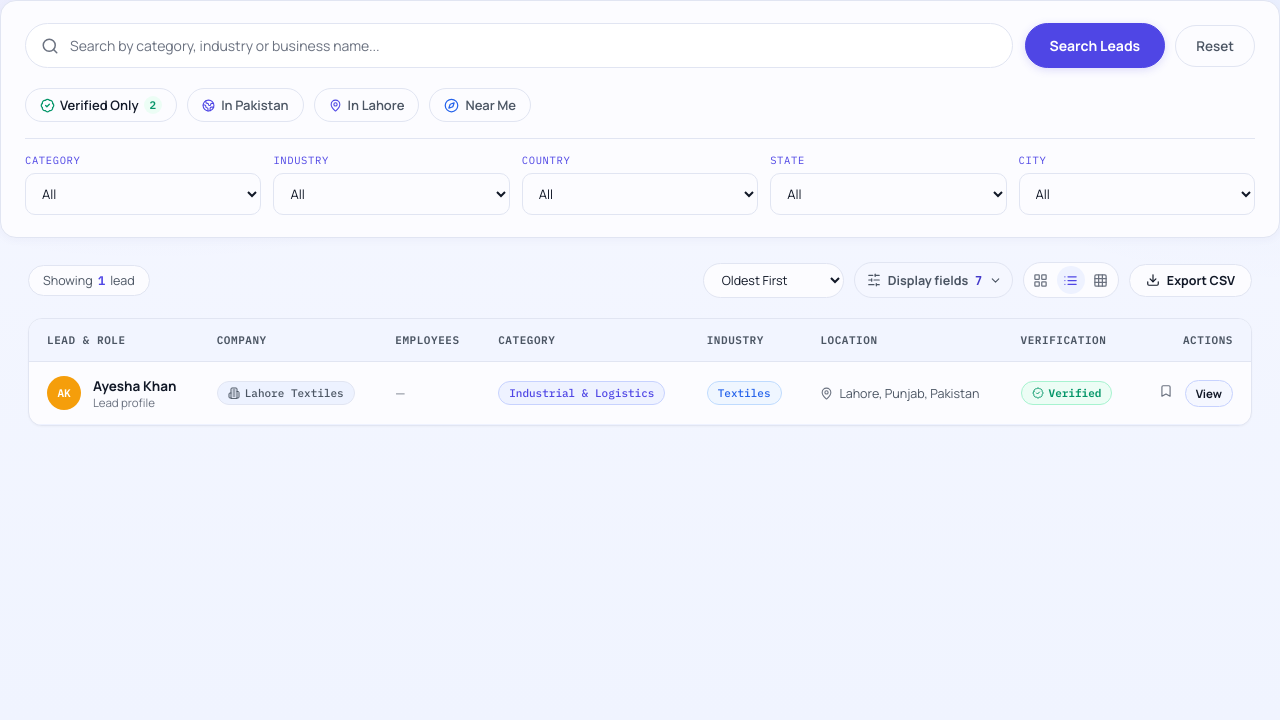
Near Me on the Search Leads page › never swaps demo rows into a failed filtered search (looks like a broken filter)
The width and height of the screenshot is (1280, 720).
Expected: the text "Ayesha Khan" is shown, [93,376,176,394]
Click the button "In Lahore" at (366, 105), box [314,88,419,122]
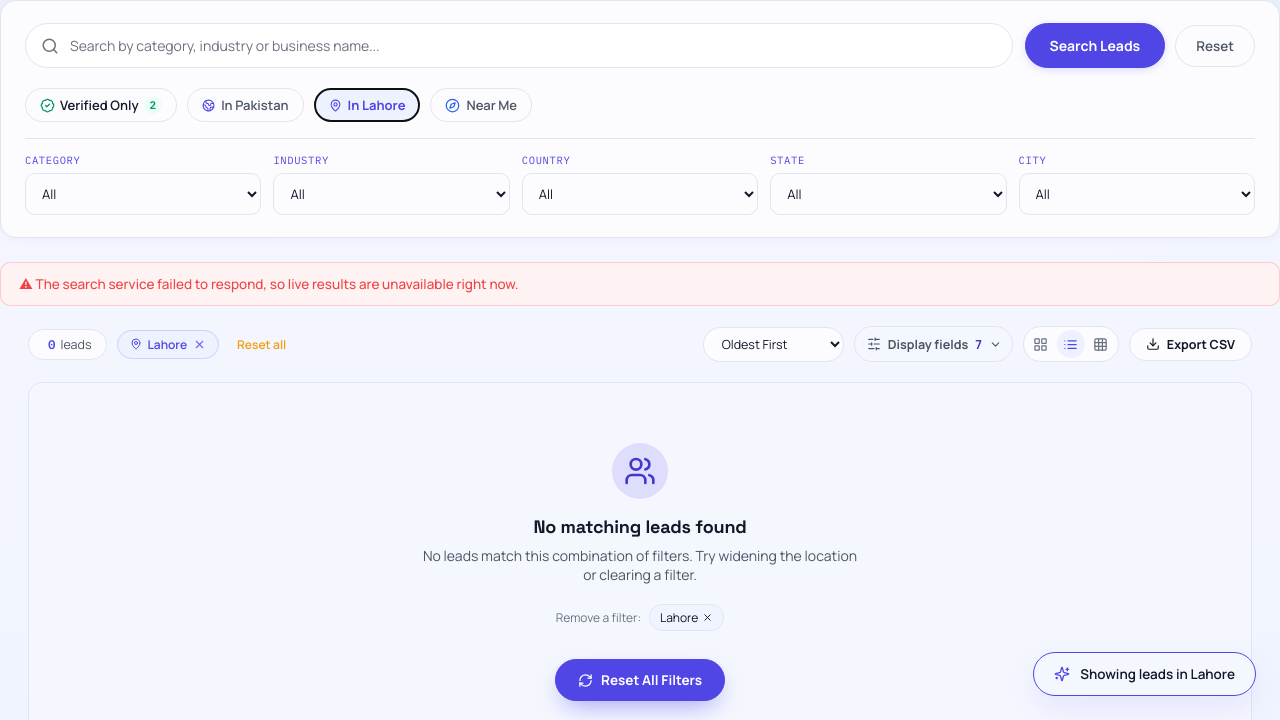
Now the text "failed to respond" is shown, box [36,275,518,293]
